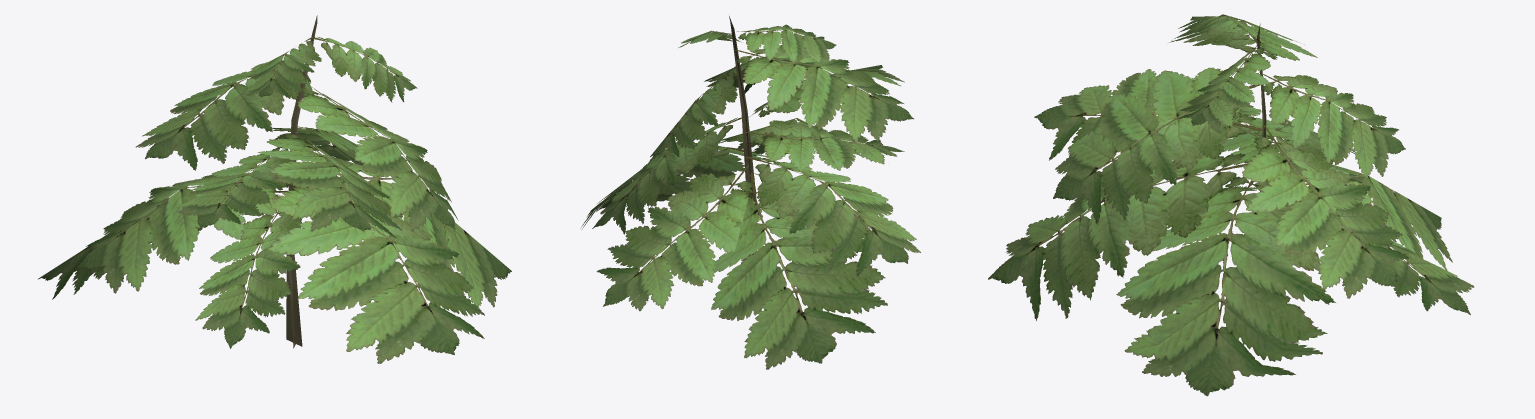
File: Forest_Plant.fbx
3 views of the same model, side by side, from view 1: azimuth 30°, elevation 25°; view 2: azimuth 150°, elevation 25°; view 3: azimuth 270°, elevation 25° (orthographic). The views are drawn at different scales.
Visible parts, largest first — view 1: weed; view 2: weed; view 3: weed.
Boxes of the visible parts, bbox=[...] form: weed: bbox=[38, 15, 511, 363]; weed: bbox=[580, 16, 920, 369]; weed: bbox=[988, 14, 1474, 396].
Bounding box in the file's own units: 1.34 × 0.9901 × 1.43.
